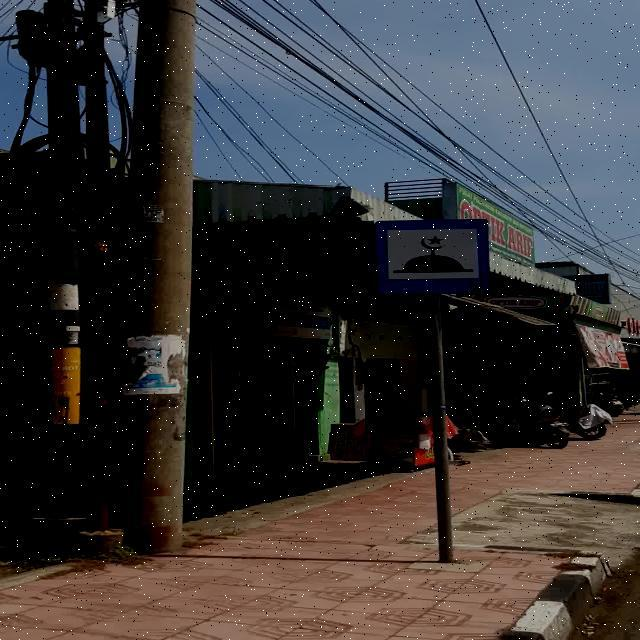Masjid: (373, 219, 492, 294)
